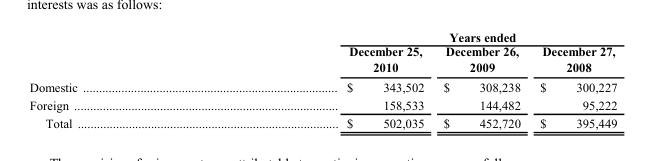table: (28, 29, 616, 129)
table column: (211, 29, 433, 129), (28, 29, 211, 129), (433, 29, 529, 129), (529, 29, 616, 129)
table column header: (28, 29, 616, 76)
table row: (28, 43, 616, 76), (28, 76, 616, 95), (28, 95, 616, 113), (28, 113, 616, 129), (28, 29, 616, 43)
table spanning cell: (211, 29, 616, 43)
